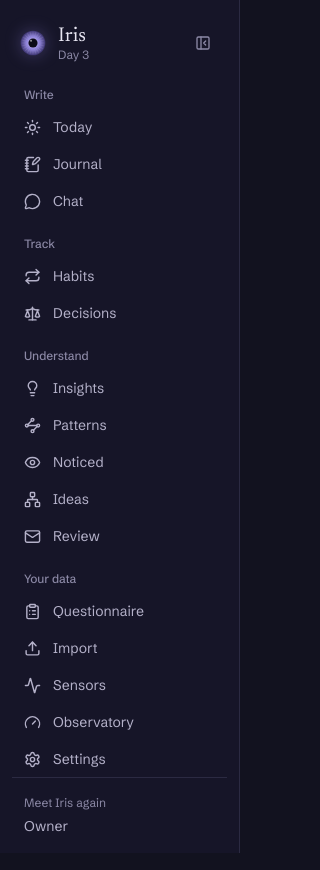
Sidebar › opens when storage is unavailable
Expected: the link "Insights" is shown, 24,379 -> 104,397
Click the button named "Fold the menu" at coordinates (203, 43), box 187,27 -> 219,59
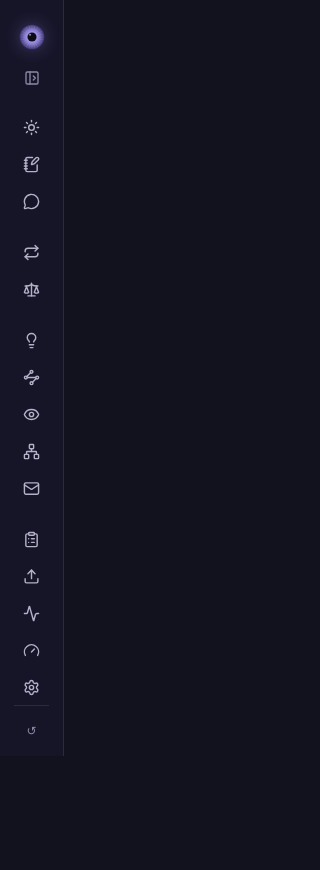
Result: the button named "Open the menu" is shown at 16,62 -> 48,94
